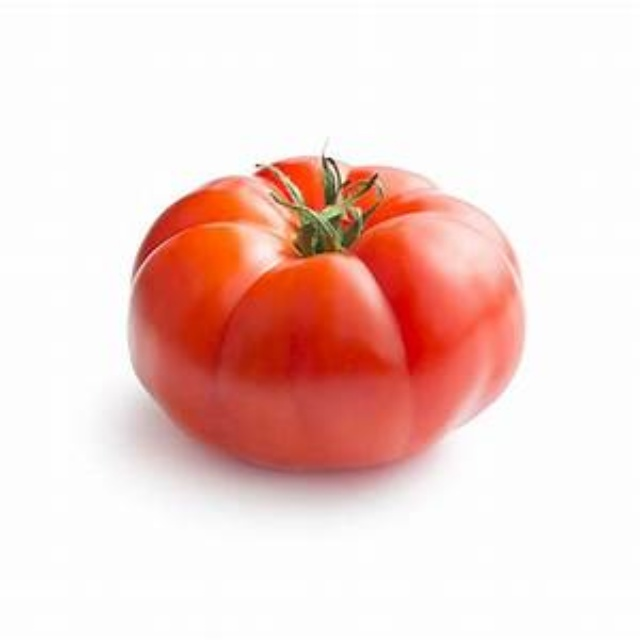tomato: (135, 141, 521, 474)
